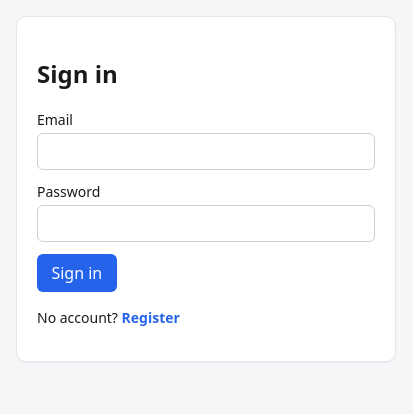
Test case: AuthPanel › shows the server error message when login fails
The width and height of the screenshot is (413, 414).
Type "ada@example.com" into the field labelled "Email" at point(206, 151), box top-left (37, 133), bottom-right (375, 170)
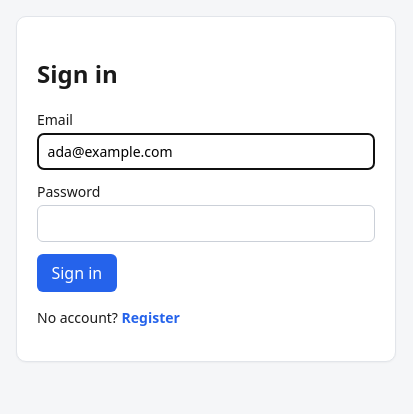
Type "wrong" into the password field labelled "Password" at point(206, 223), box top-left (37, 205), bottom-right (375, 242)
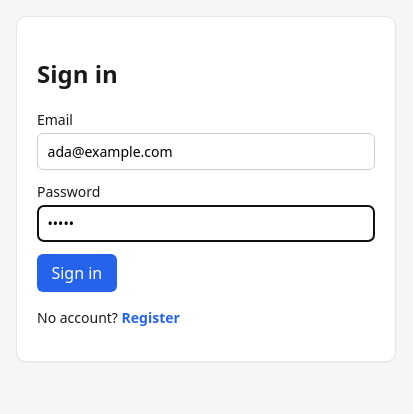
Click the button "Sign in" at point(77, 273), box top-left (37, 254), bottom-right (117, 292)
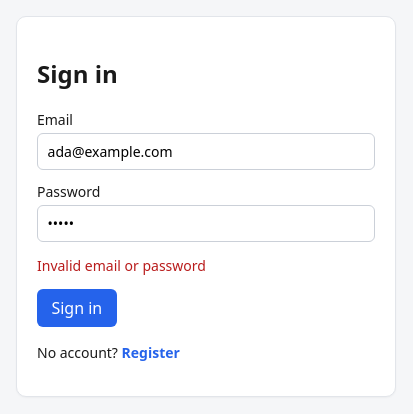
Now the text "Invalid email or password" is shown, box top-left (37, 256), bottom-right (206, 275)
